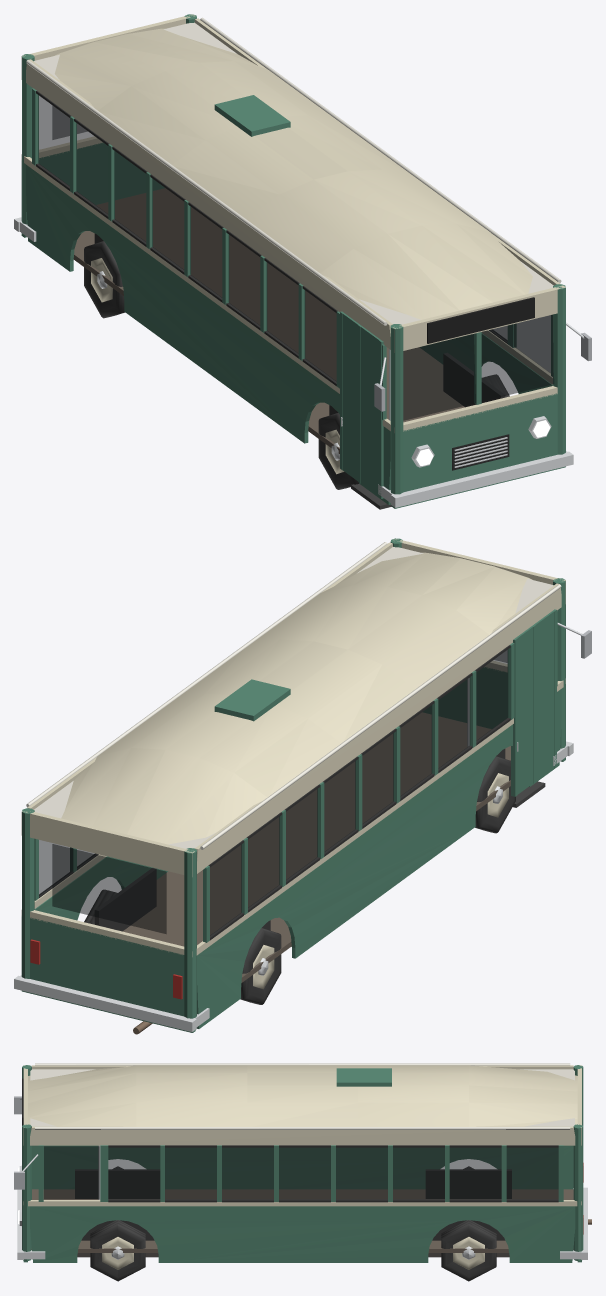
File: festival_bus_restored_lod2.glb
3 renders of one model, top to bottom at view 1: azimuth 30°, elevation 25°; view 2: azimuth 150°, elevation 25°; view 3: azimuth 270°, elevation 25°, orthographic. The views are drawn at different scales.
Parts seen in each view (by area): view 1: body, door, destination_board, wheel_rr, wheel_fr; view 2: body, door, wheel_rr, wheel_fr; view 3: body, wheel_fl, wheel_rl.
Part boxes in pixels (box(x1,y1,x2,y2)): body: box(14, 14, 591, 509); door: box(340, 311, 383, 498); destination_board: box(427, 297, 534, 343); wheel_rr: box(84, 241, 124, 318); wheel_fr: box(318, 413, 358, 489); body: box(14, 538, 591, 1034); door: box(511, 609, 556, 796); wheel_rr: box(240, 928, 281, 1004); wheel_fr: box(475, 756, 515, 833); body: box(14, 1063, 591, 1262); wheel_fl: box(90, 1220, 145, 1281); wheel_rl: box(441, 1220, 496, 1281).
Size of what is drawn, in the model's own units: 2.95 by 3.18 by 9.39.
